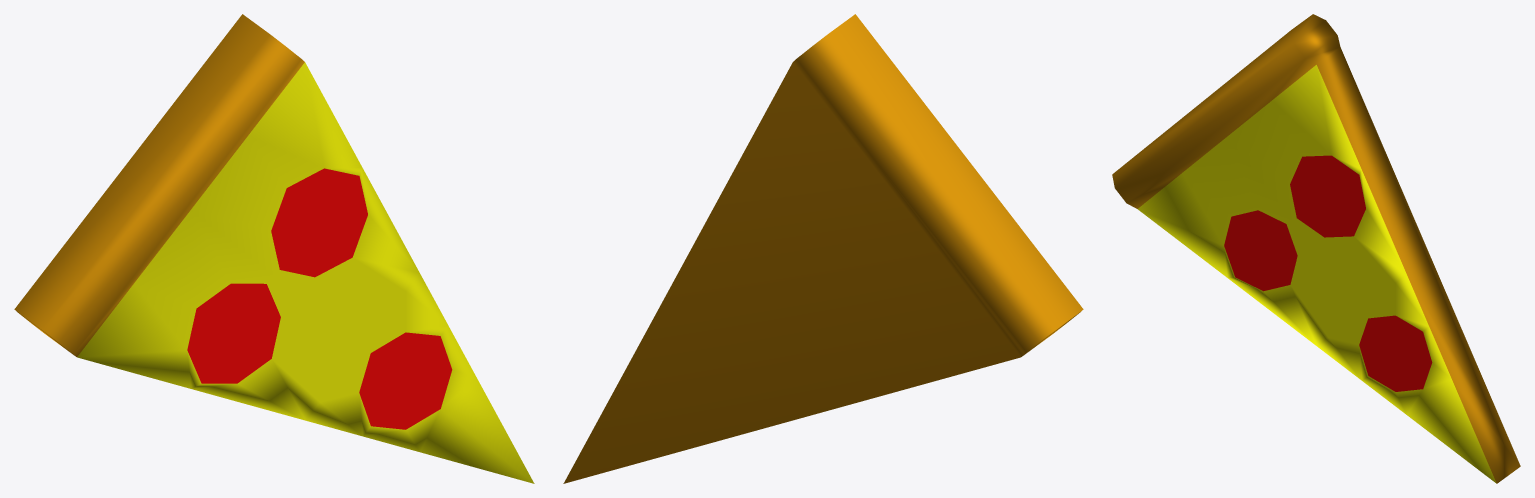
Rendered from item_pizza.gltf.
The picture shows the model from 3 angles, left to right: view 1: azimuth 30°, elevation 25°; view 2: azimuth 150°, elevation 25°; view 3: azimuth 330°, elevation 25°; orthographic projection. The views are drawn at different scales.
Parts seen in each view (by area): view 1: Pizza.3ds; view 2: Pizza.3ds; view 3: Pizza.3ds.
Part boxes in pixels (x1,y1,x2,y2): Pizza.3ds: (14, 14, 534, 483); Pizza.3ds: (563, 14, 1083, 483); Pizza.3ds: (1112, 14, 1520, 483).
Size of the model in its own units: 0.8767 by 0.8747 by 0.1262.
